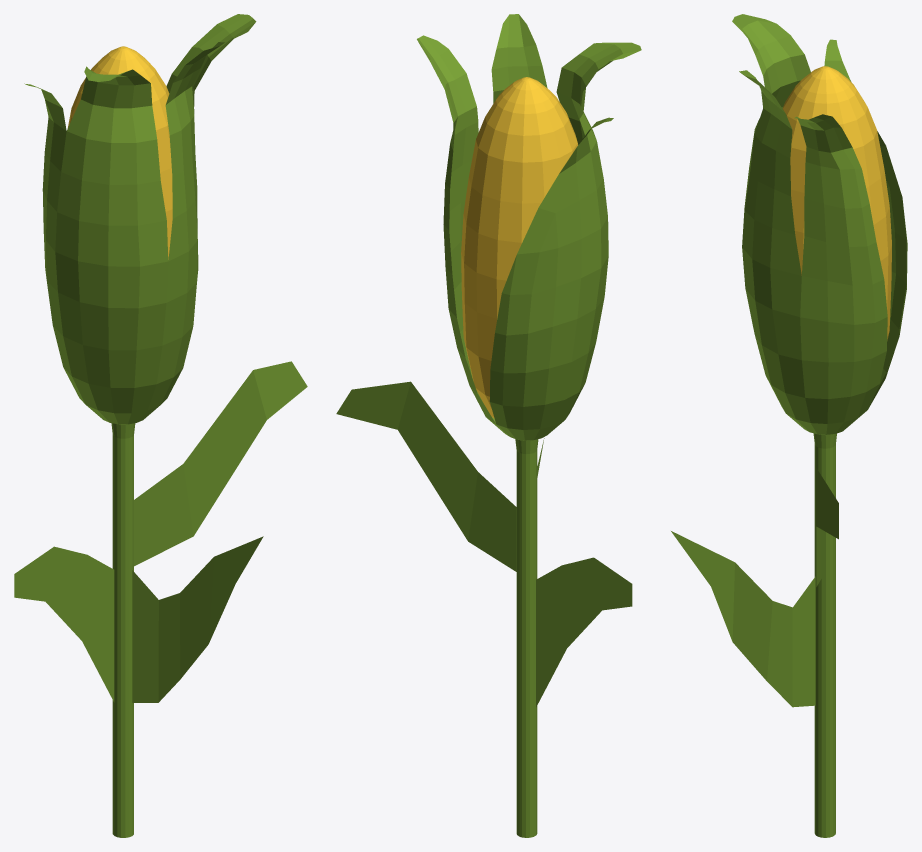
Rendered from korn_plant.glb.
3 renders of one model, left to right at view 1: azimuth 30°, elevation 25°; view 2: azimuth 150°, elevation 25°; view 3: azimuth 270°, elevation 25°, orthographic. The views are drawn at different scales.
Visible parts, largest first — view 1: korn_leaf.001, korn_plant; view 2: korn_leaf.001, korn_plant; view 3: korn_leaf.001, korn_plant.
Boxes of the visible parts, x1=… form: korn_leaf.001: x1=14, y1=14, x2=307, y2=837; korn_plant: x1=67, y1=46, x2=172, y2=259; korn_leaf.001: x1=336, y1=14, x2=641, y2=837; korn_plant: x1=461, y1=77, x2=577, y2=418; korn_leaf.001: x1=671, y1=14, x2=907, y2=837; korn_plant: x1=782, y1=66, x2=891, y2=340.
Bounding box in the file's own units: 2.09 × 5.36 × 1.46.
Materials: 1 (1 with a texture image).
